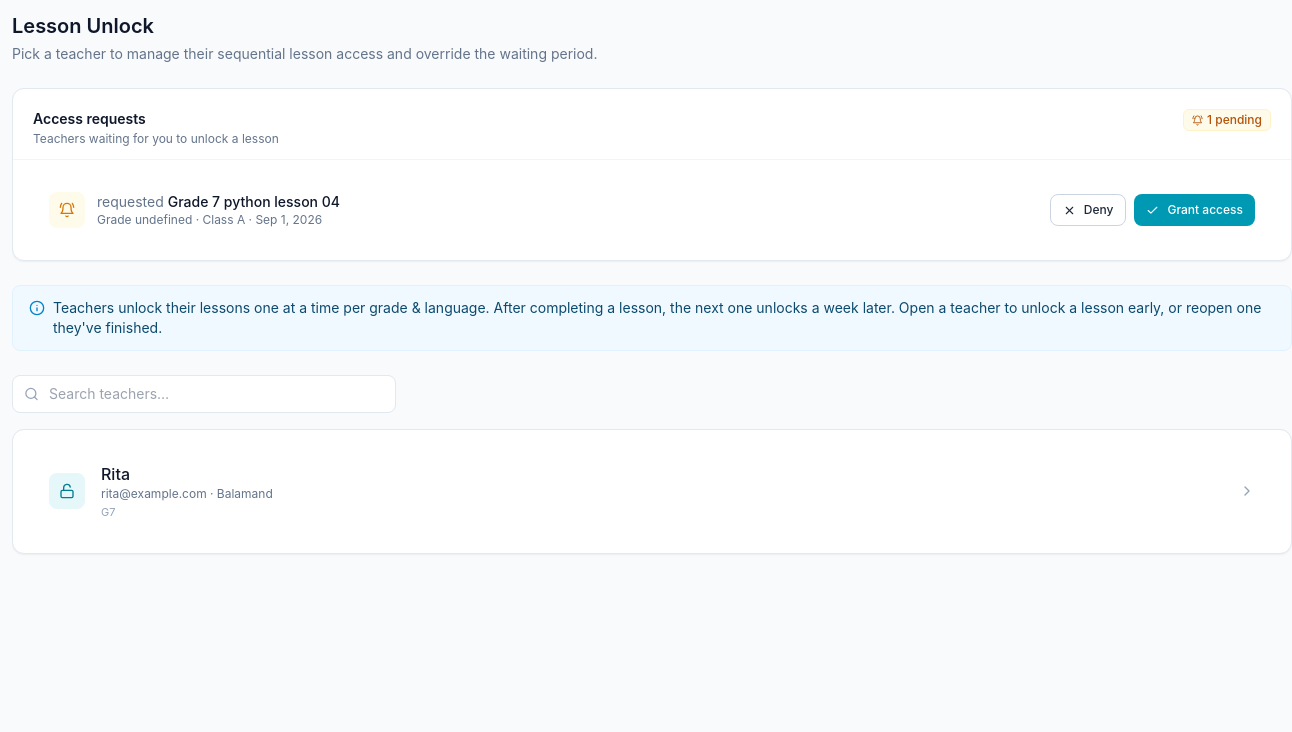
it: a grant that fails › says so instead of looking like the click missed
Check: the text "Grade 7 python lesson 04" is shown, box [168,193,340,210]
Click the button "Grant access".
click(1195, 210)  # box [1134,194,1255,226]
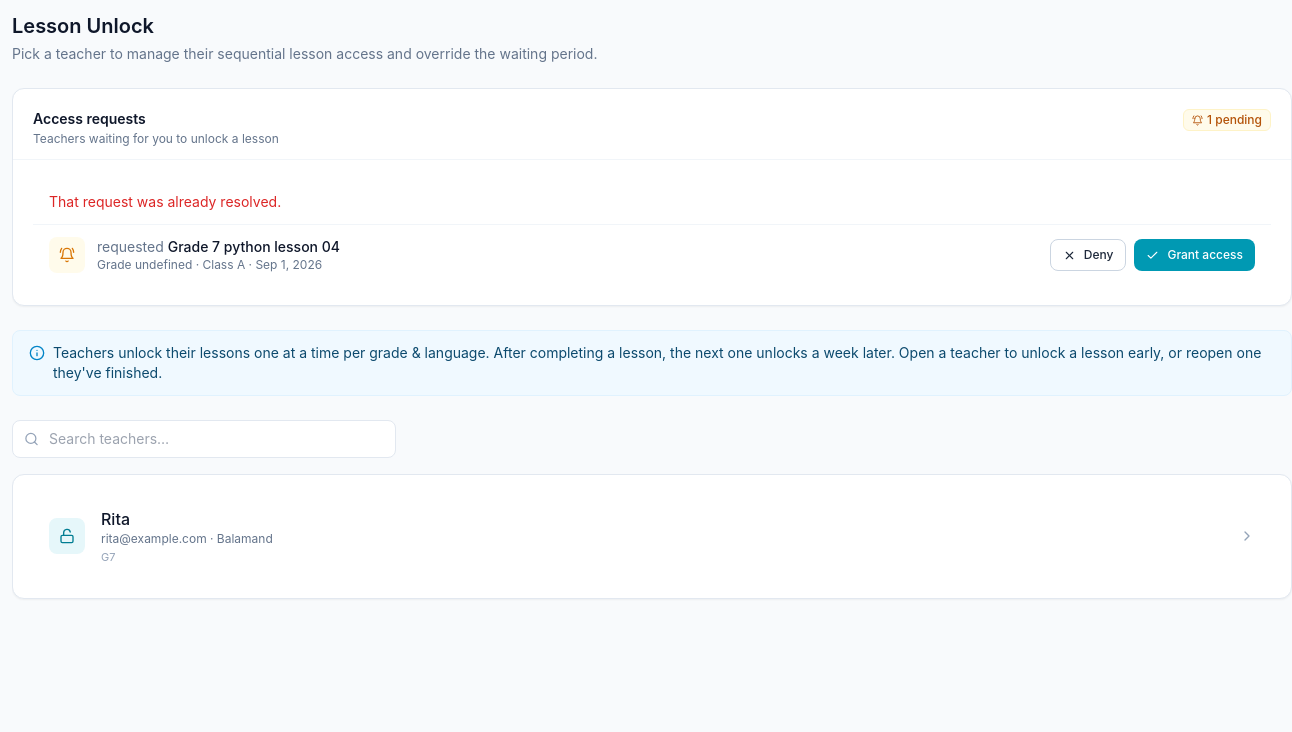
Check: the text "That request was already resolved." is shown, box [49,193,281,210]
